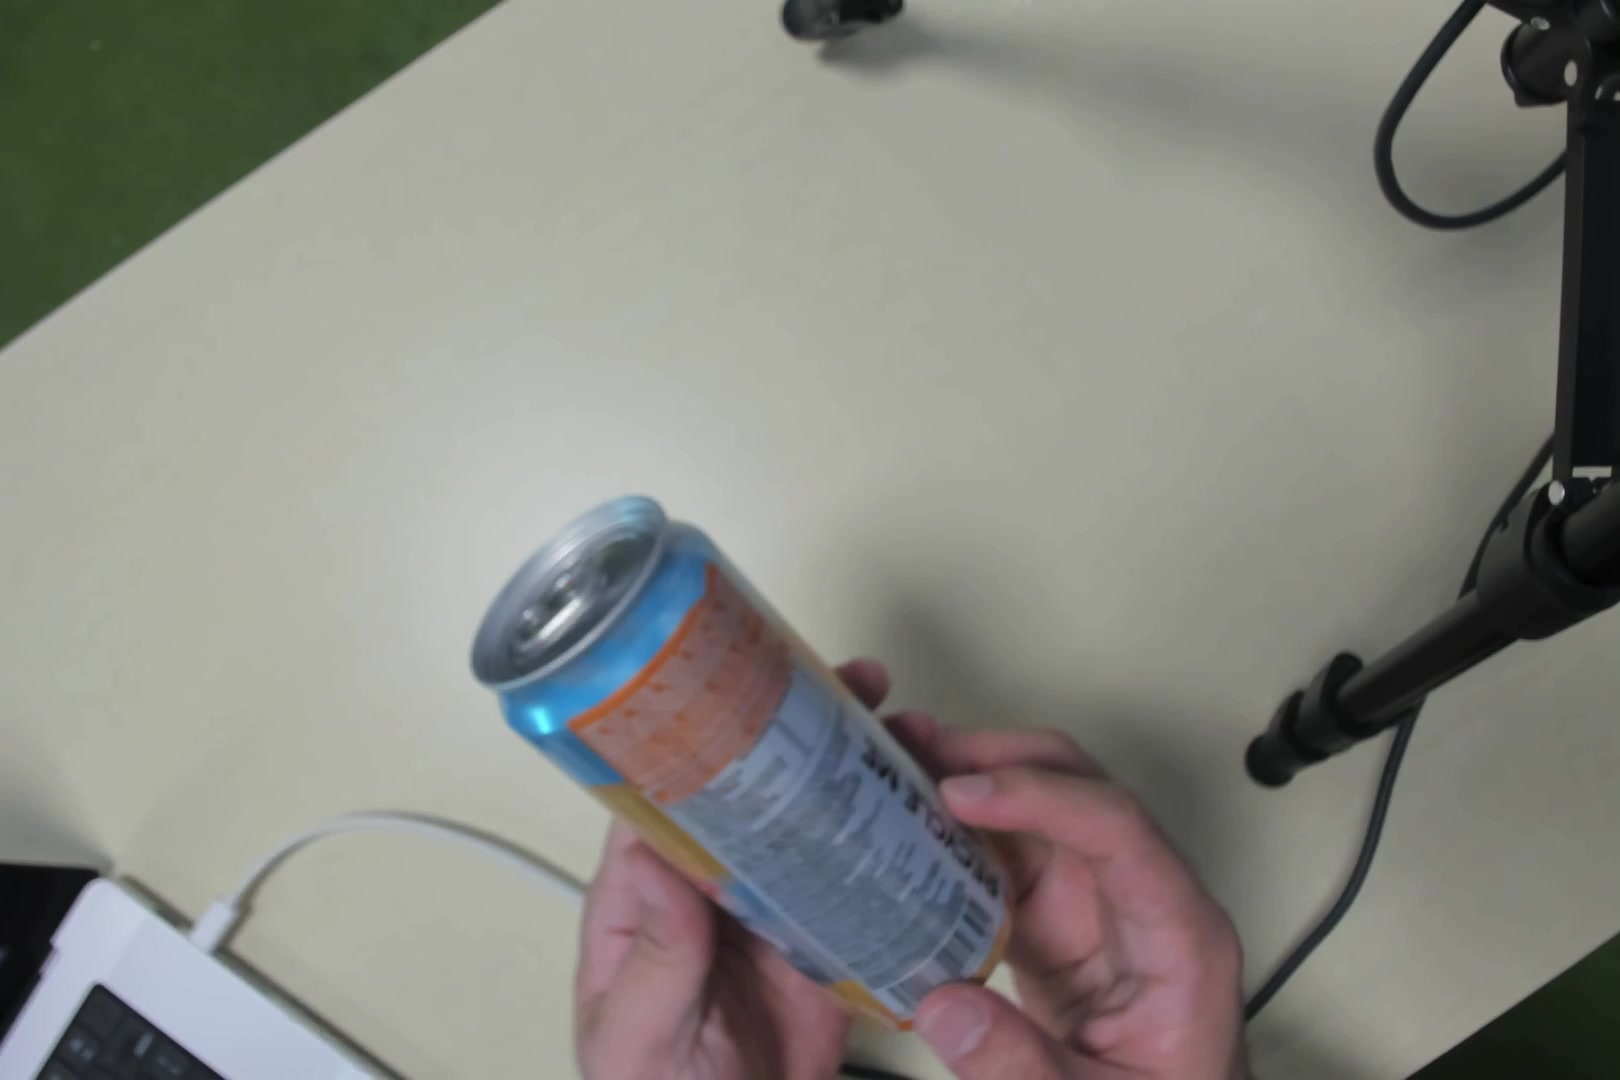SoftDrinks_200-299g_Halal_Healthy: (527, 522, 968, 978)
